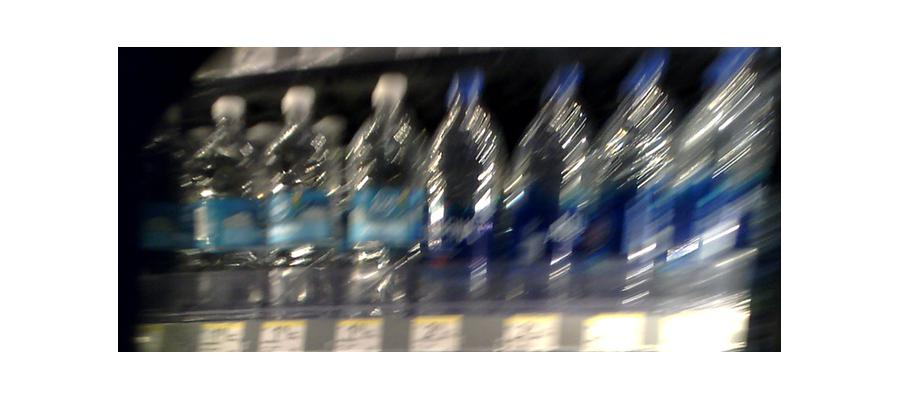bottle: (579, 50, 672, 309), (344, 63, 419, 336), (512, 65, 589, 323), (422, 67, 498, 322), (264, 105, 339, 324), (190, 91, 266, 307)
